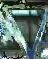Give way: (1, 1, 47, 57)
